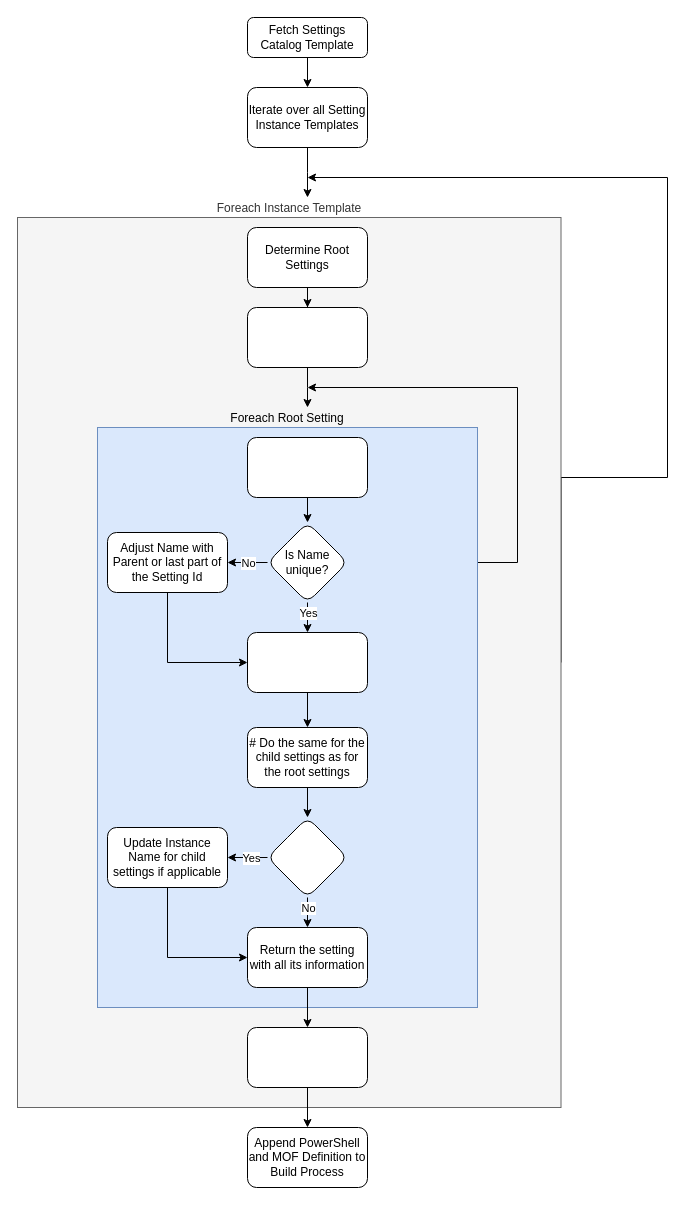
Some shapes in this 693 by 1205 pixel diagram are drawn without their labels. The centre of each missing label's shape, as x and y in pixels:
"Build PowerShell and MOF Parameter Definition" belongs at [307,1057].
"Determine child settings" belongs at [307,662].
"Get Name, Type, DefaultValue, Options and ValueRestrictions" belongs at [307,467].
"Is it a Group Collection?" belongs at [307,857].
"Iterate over all Root Settings" belongs at [307,337].
